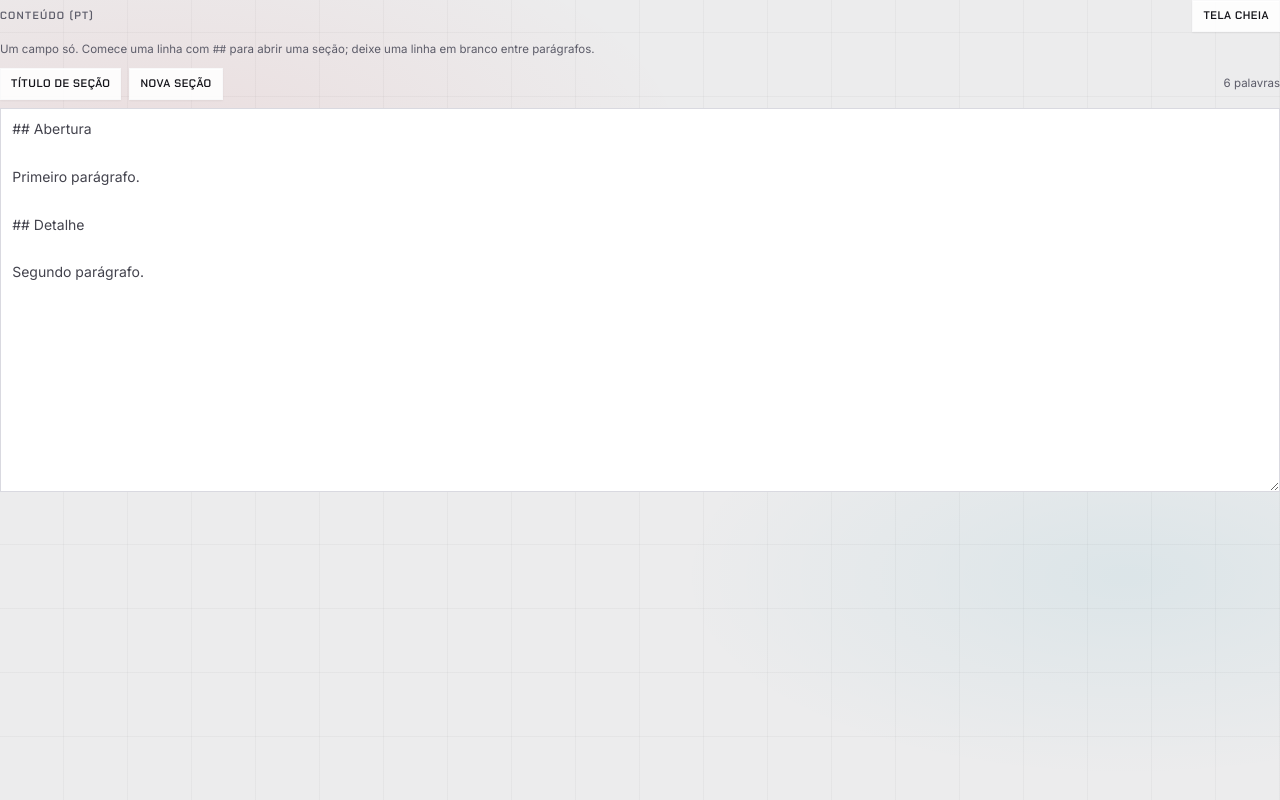
Test case: BodyEditor — tela cheia › "tela cheia" abre um diálogo que traz o mesmo texto
What coordinates should you click on to do the following:
click the button "tela cheia"
I would click on:
 (1236, 16)
Its box is [1192,0,1279,32].
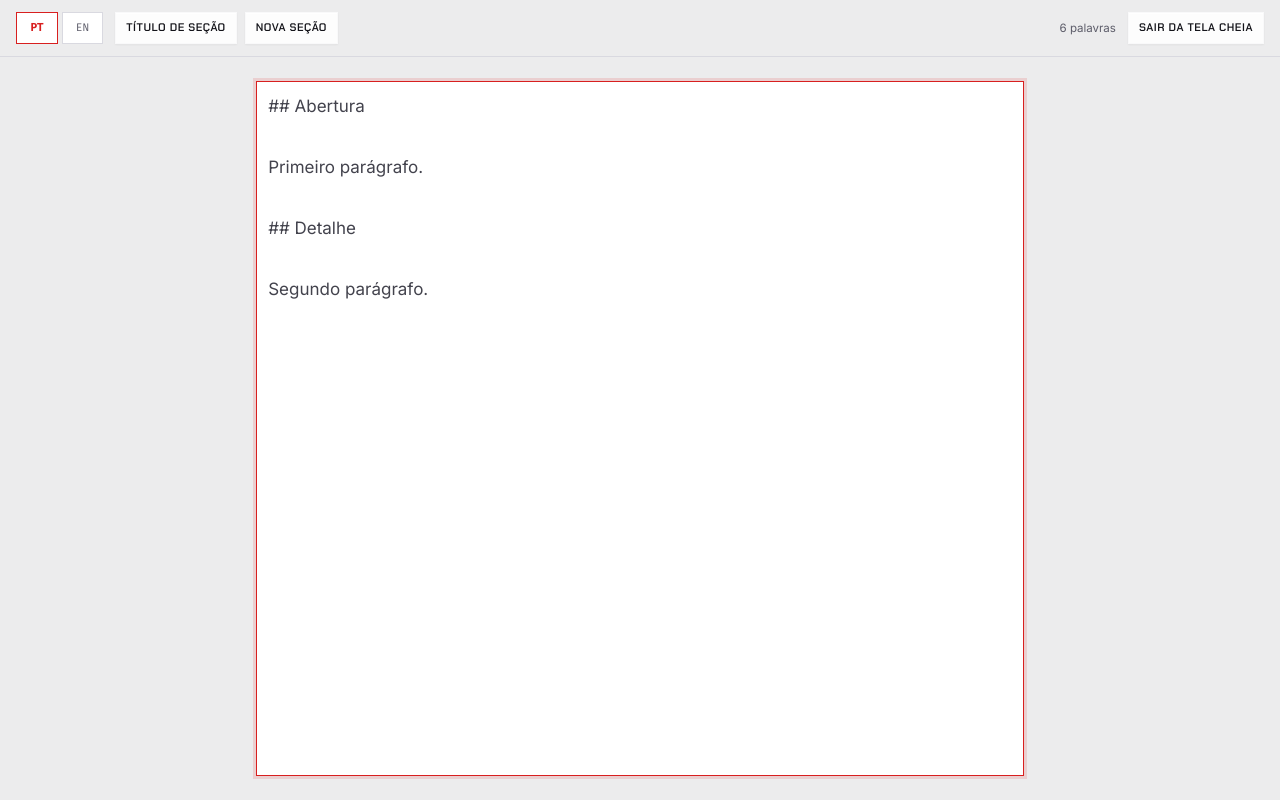
expect the number of text boxes is 1: met, box [256,81,1024,776]
expect the dialog is shown: met
